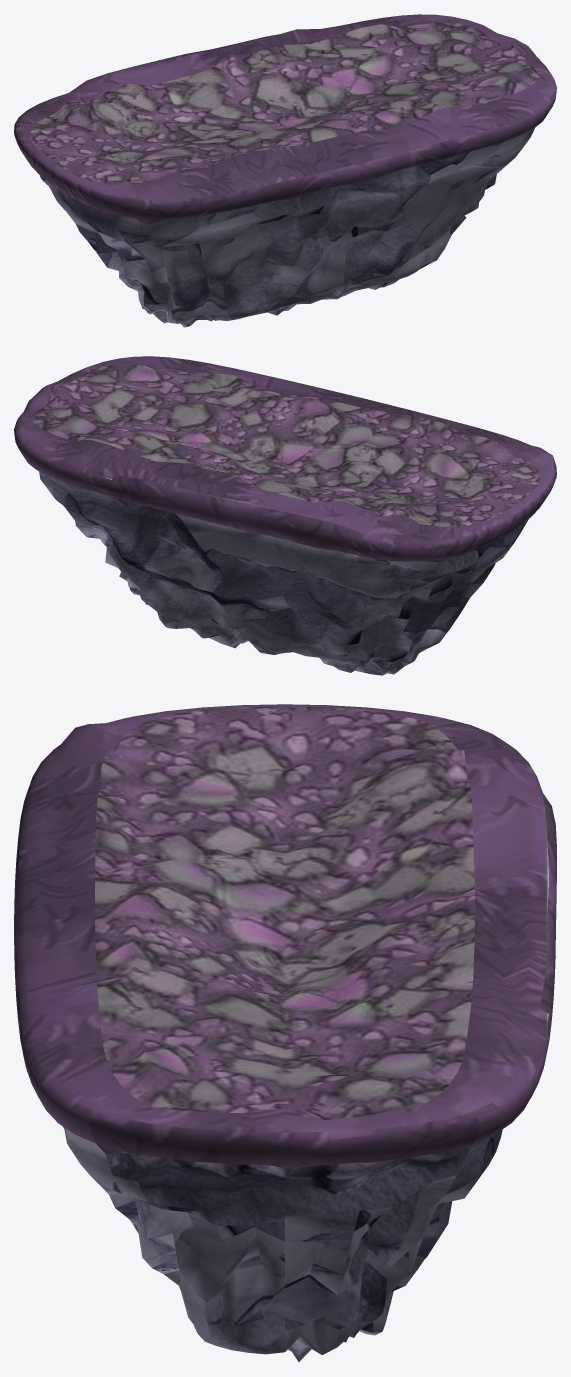
File: platefomre Mouvante  Violette.fbx
3 views of the same model, one above another, from view 1: azimuth 30°, elevation 25°; view 2: azimuth 150°, elevation 25°; view 3: azimuth 270°, elevation 25° (orthographic). The views are drawn at different scales.
Visible parts, largest first — view 1: Box001; view 2: Box001; view 3: Box001.
Boxes of the visible parts, x1,y1,x2,y2 form: Box001: [14, 14, 556, 327]; Box001: [14, 356, 556, 675]; Box001: [14, 704, 556, 1362].
Size of the model in its own units: 4.84 by 1.99 by 2.57.
